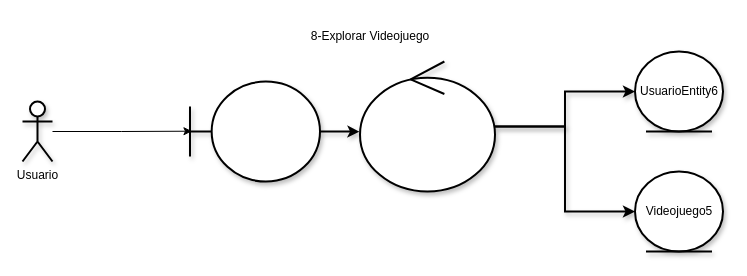
Image size: 747x276. Some labels were removed from this diagram. Each missing label, with the centre of its shape:
"ExplorarAction" goes at pixel 428 127.
"ExplorarUi" goes at pixel 255 132.
